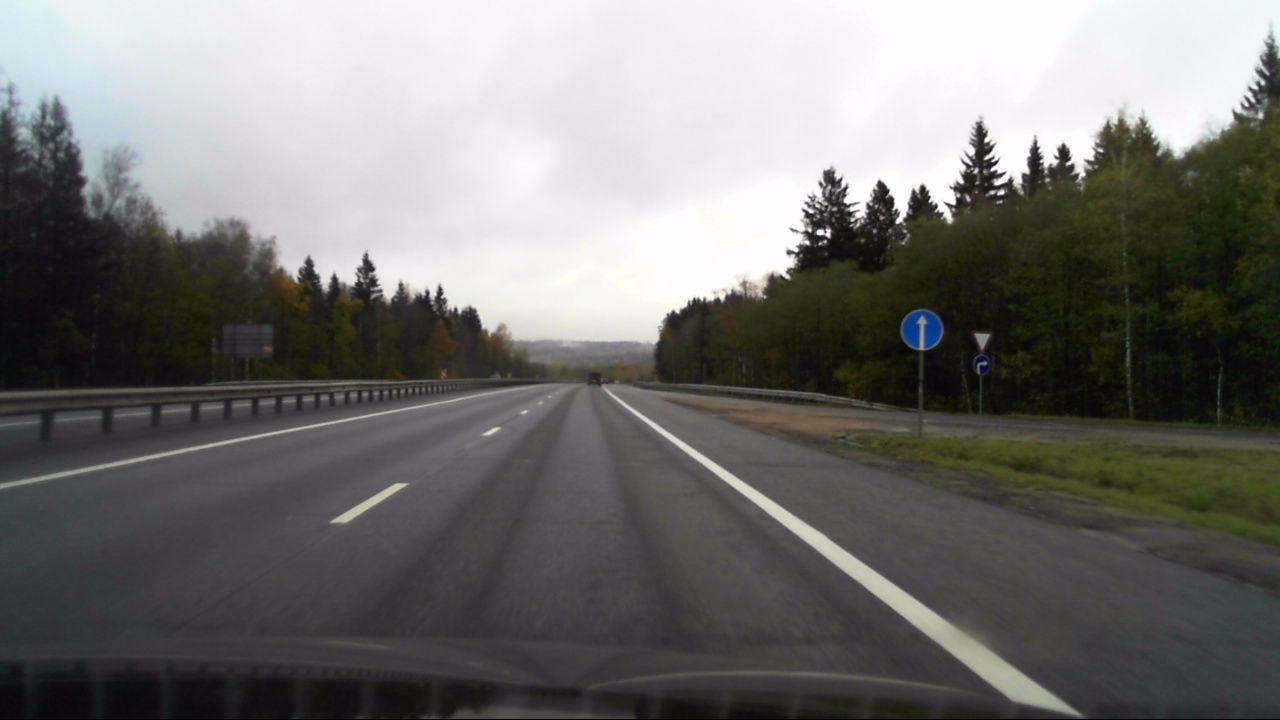2_4: (968, 329, 995, 353)
4_1_1: (904, 306, 945, 353)
4_1_2: (972, 355, 990, 375)
